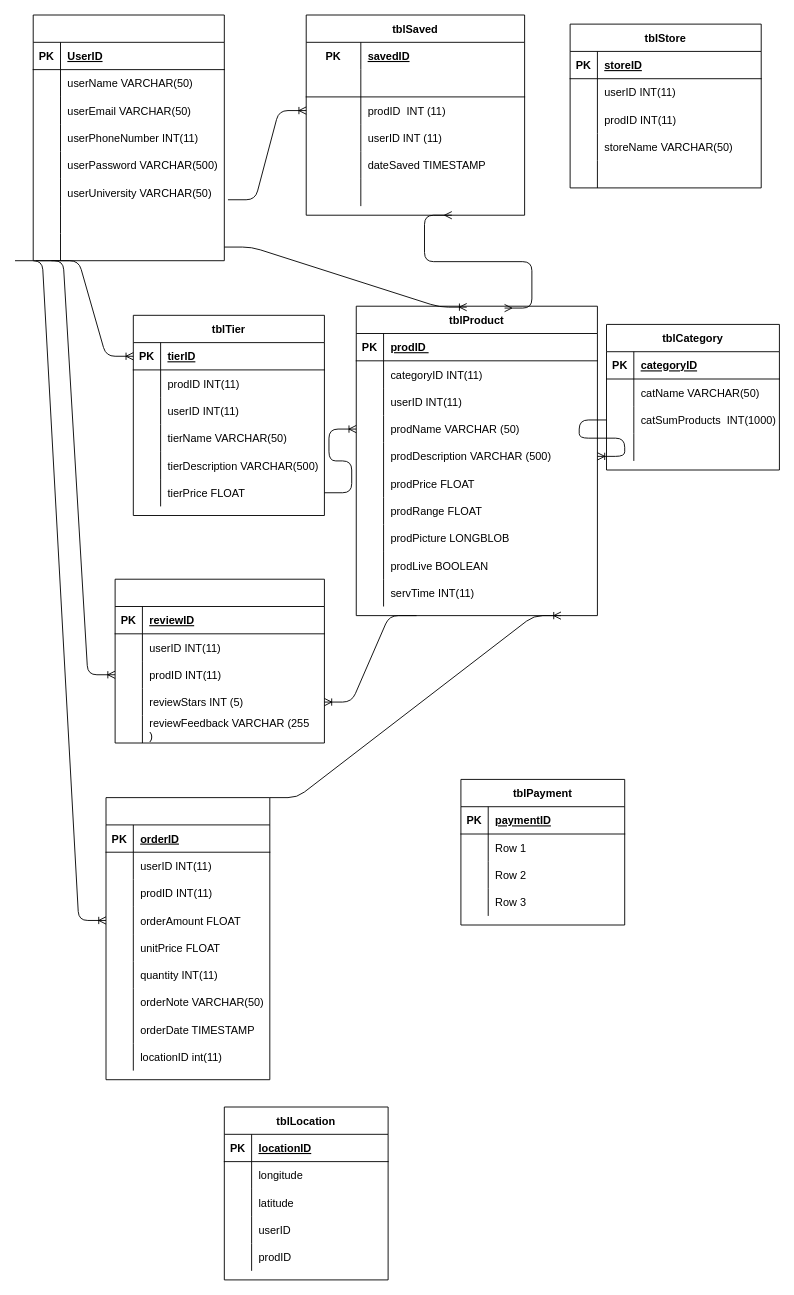
Image size: 794x1295. Some labels were removed from this diagram. The box of each missing label's shape, as (x1, y1, x2, y2) in pixels:
tblOrder: (105, 797, 270, 1080)
tblRview: (114, 578, 324, 743)
tblUser: (32, 14, 224, 261)
